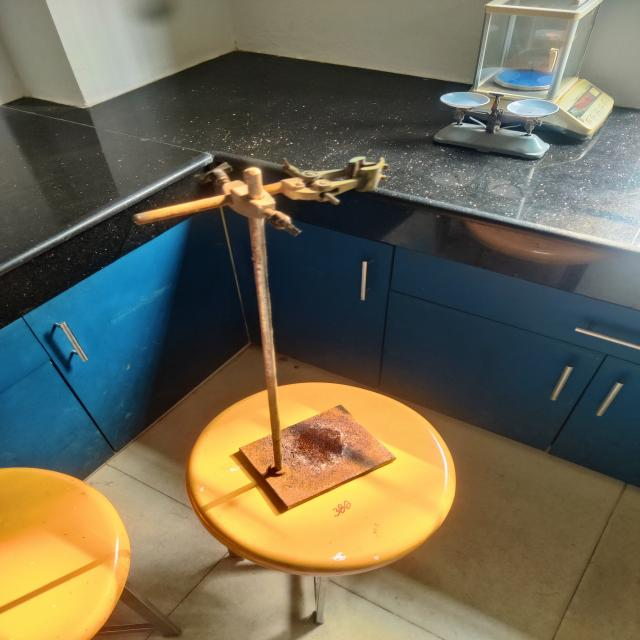Burette_Stands: (105, 120, 429, 526)
